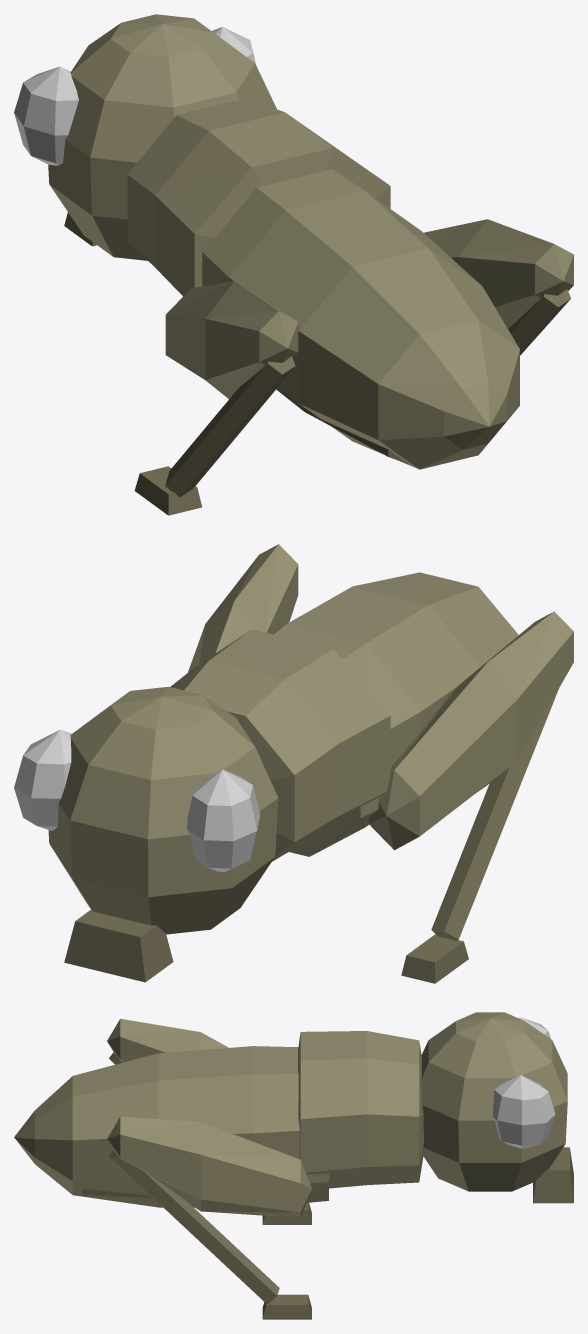
The model's file is animal_locust.obj.
3 renders of one model, top to bottom at view 1: azimuth 30°, elevation 25°; view 2: azimuth 150°, elevation 25°; view 3: azimuth 270°, elevation 25°, orthographic. The views are drawn at different scales.
Parts seen in each view (by area): view 1: animal_locust; view 2: animal_locust; view 3: animal_locust.
Boxes of the visible parts, x1=… form: animal_locust: x1=14, y1=14, x2=573, y2=515; animal_locust: x1=14, y1=544, x2=573, y2=983; animal_locust: x1=14, y1=1012, x2=573, y2=1319.
Size of the model in its own units: 0.34 by 0.3514 by 0.7198.
